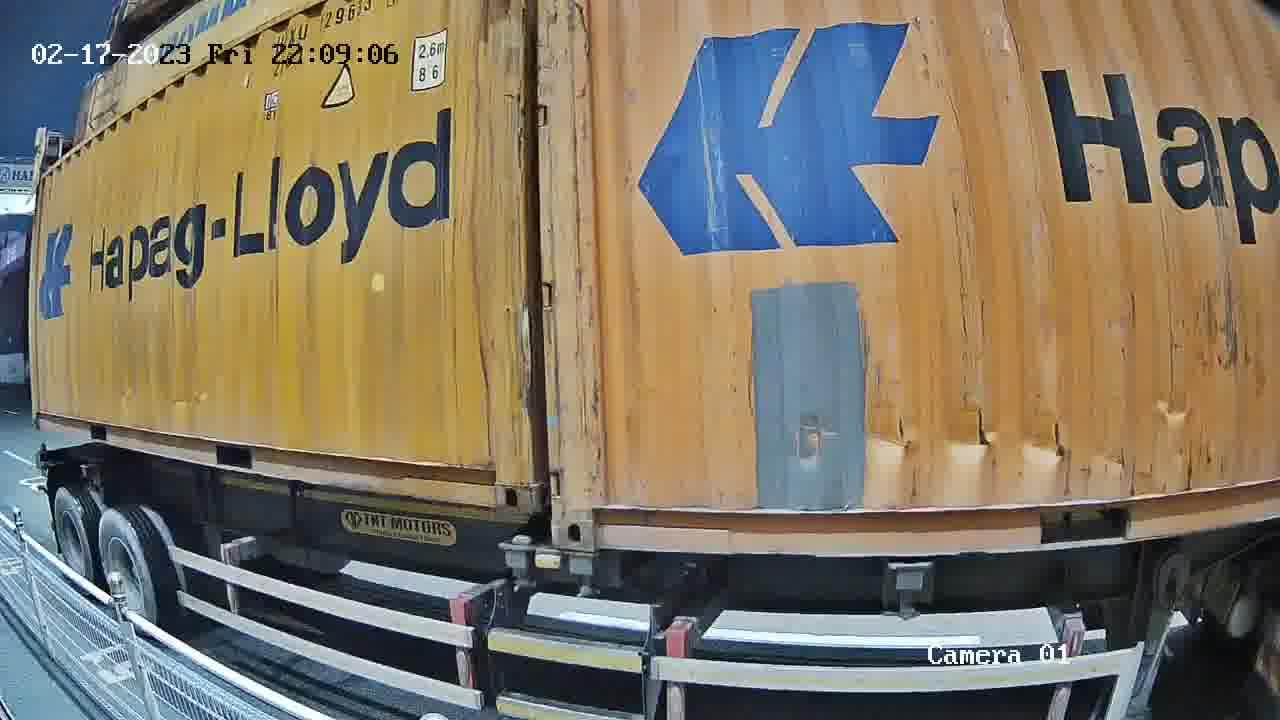Cone: (497, 534, 536, 592), (565, 551, 602, 597)
Hole_L: (551, 484, 634, 550)
Hole_R: (465, 447, 536, 513)
Tire: (98, 506, 162, 635), (53, 487, 97, 592)
